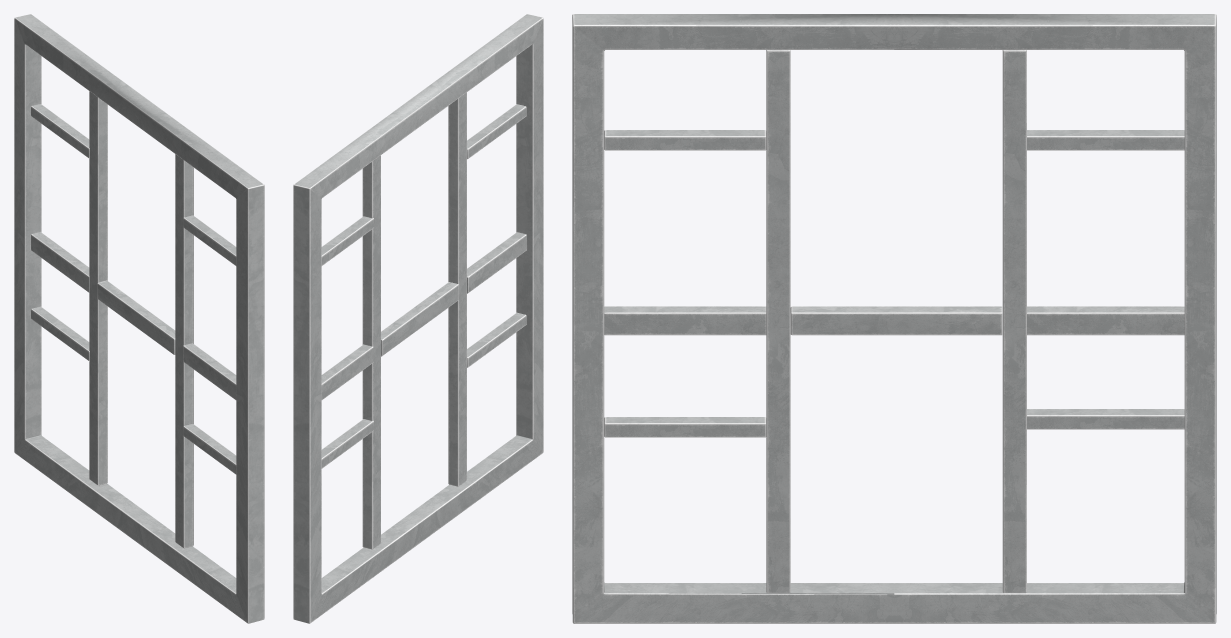
Rendered from SM_Window.fbx.
3 renders of one model, left to right at view 1: azimuth 30°, elevation 25°; view 2: azimuth 150°, elevation 25°; view 3: azimuth 270°, elevation 25°, orthographic. The views are drawn at different scales.
Parts seen in each view (by area): view 1: SM_Window_LOD0; view 2: SM_Window_LOD0; view 3: SM_Window_LOD0.
Boxes of the visible parts, x1,y1,x2,y2 form: SM_Window_LOD0: (14, 14, 264, 623); SM_Window_LOD0: (293, 14, 543, 623); SM_Window_LOD0: (572, 14, 1216, 623).
Bounding box in the file's own units: 9.67 × 222 × 228.
1 material, 1 textured.
